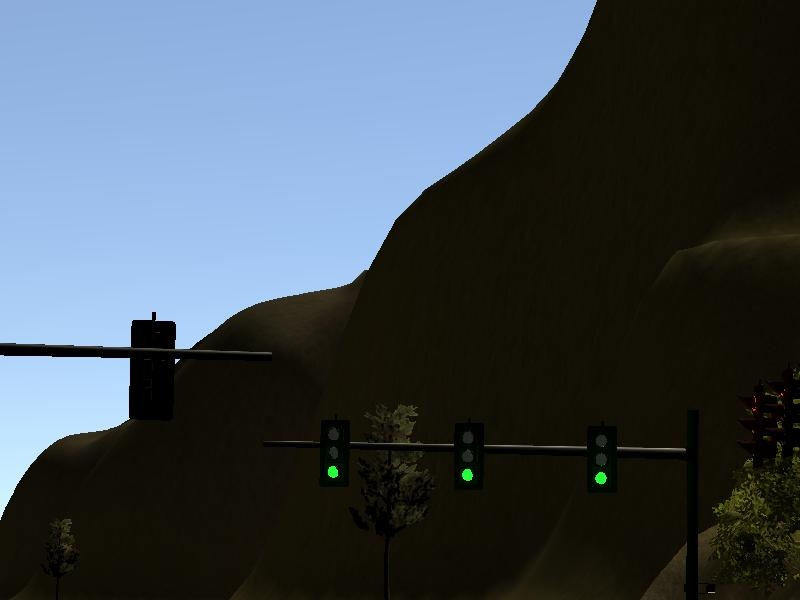green: (584, 426, 618, 499), (453, 420, 485, 495), (319, 422, 351, 490)
